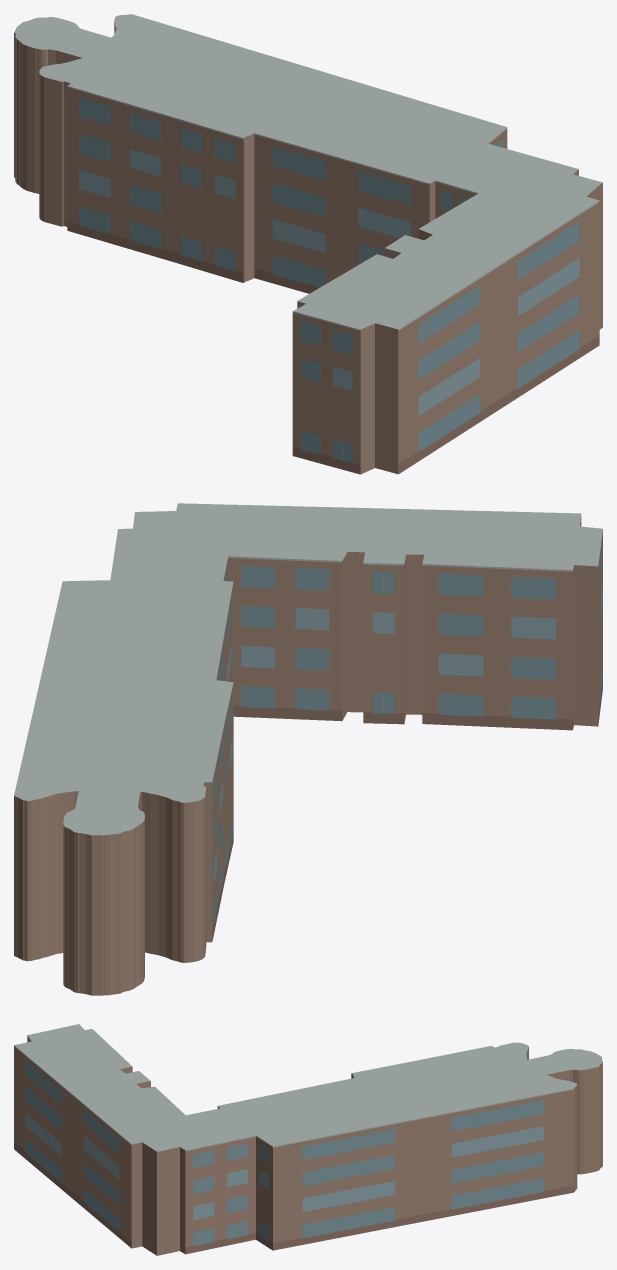
Rendered from survey-upis-32835177.glb.
The picture shows the model from 3 angles, top to bottom: view 1: azimuth 30°, elevation 25°; view 2: azimuth 150°, elevation 25°; view 3: azimuth 270°, elevation 25°; orthographic projection. The views are drawn at different scales.
Visible parts, largest first — view 1: survey-upis-32835177.tmp; view 2: survey-upis-32835177.tmp; view 3: survey-upis-32835177.tmp.
Part boxes in pixels (x1,y1,x2,y2): survey-upis-32835177.tmp: (14, 14, 602, 474); survey-upis-32835177.tmp: (14, 503, 602, 995); survey-upis-32835177.tmp: (14, 1024, 602, 1255).
Bounding box in the file's own units: 61.12 × 23.2 × 119.
